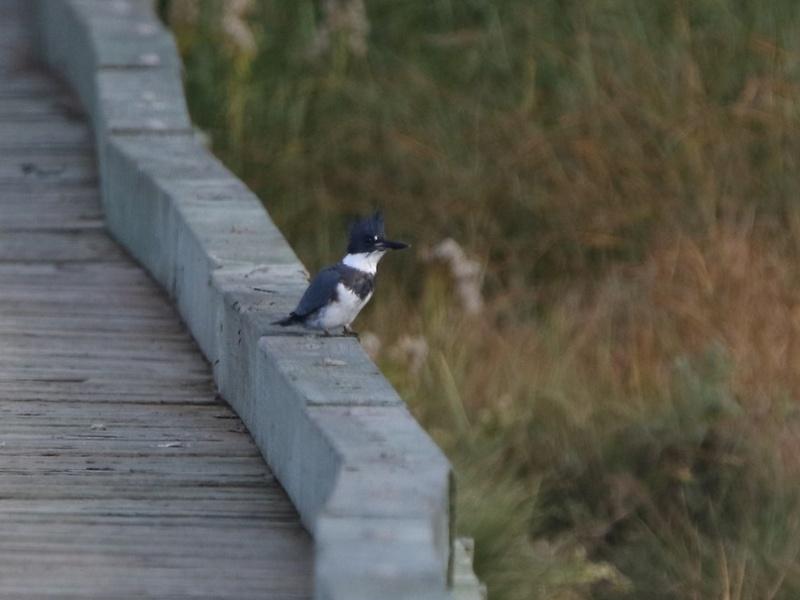kingfisher: (274, 210, 413, 334)
